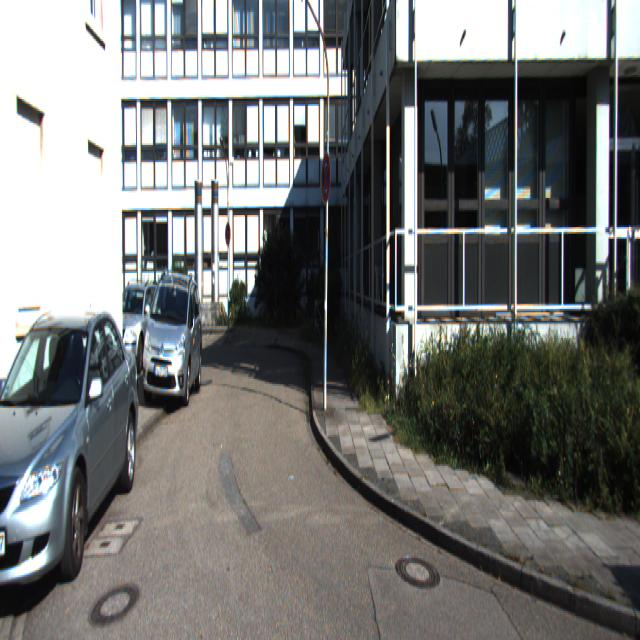Car: (0, 303, 144, 608), (137, 270, 206, 408)
